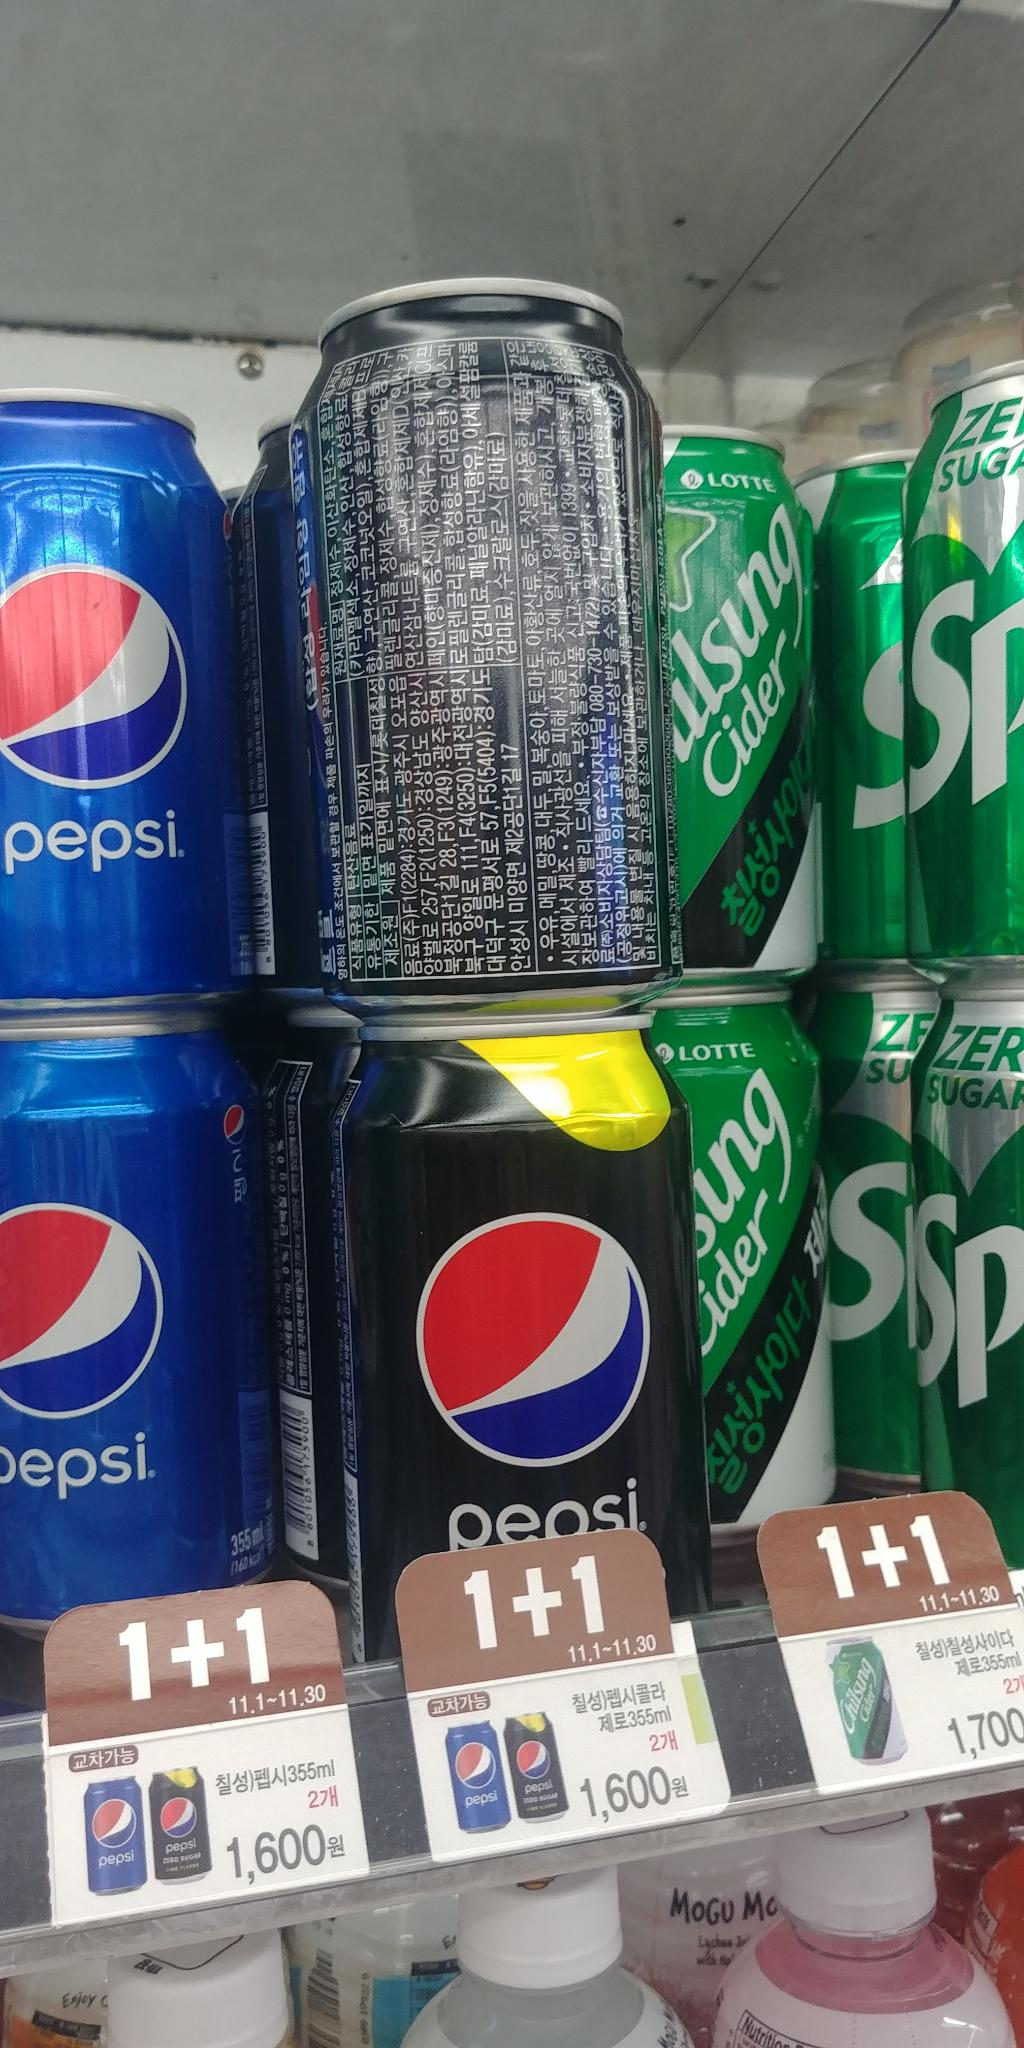pepsi_zero: (296, 273, 688, 1021), (325, 1038, 722, 1650)
